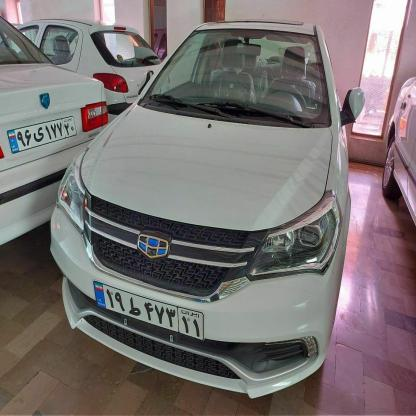Car: (60, 11, 354, 407), (0, 7, 110, 289), (24, 14, 161, 136), (377, 59, 416, 281)
